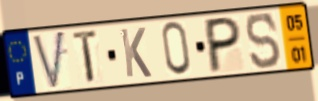0: (160, 20, 193, 79)
K: (118, 26, 154, 80)
P: (205, 15, 243, 76)
S: (244, 11, 284, 72)
T: (71, 28, 100, 87)
V: (30, 28, 67, 92)
